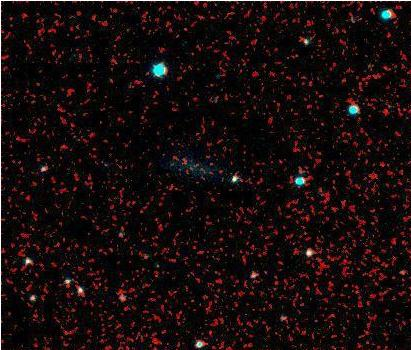star: (291, 25, 321, 55)
